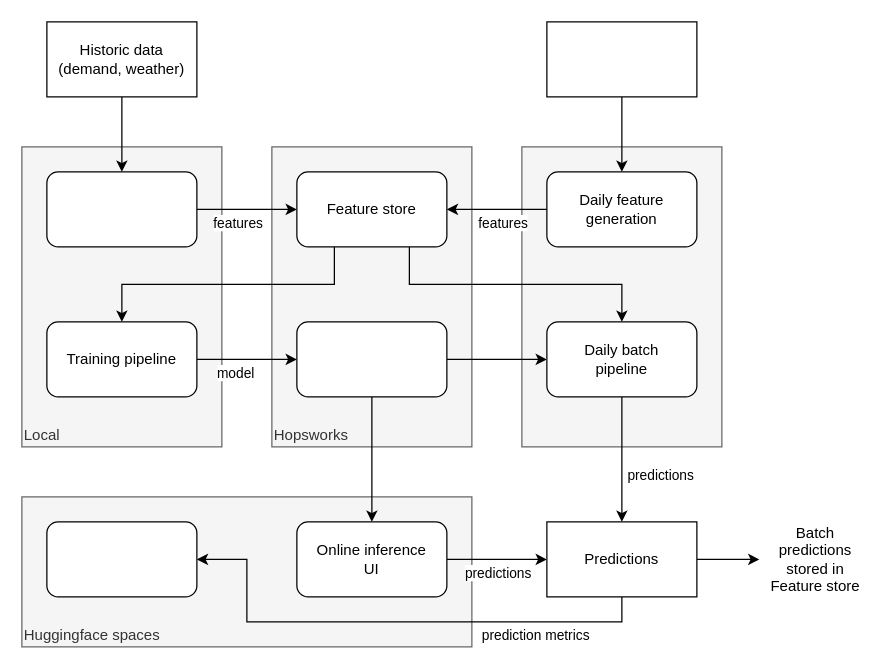
The diagram is 894 pixels wide and 669 high, and some of its shapes have lost their labels. Each missing label, with the box of its shape:
Feature pipeline: (46, 171, 197, 247)
Modal: (521, 146, 722, 447)
Model registry: (296, 321, 447, 397)
Monitoring UI: (46, 521, 197, 597)
Online data (demand, weather): (546, 21, 697, 97)
